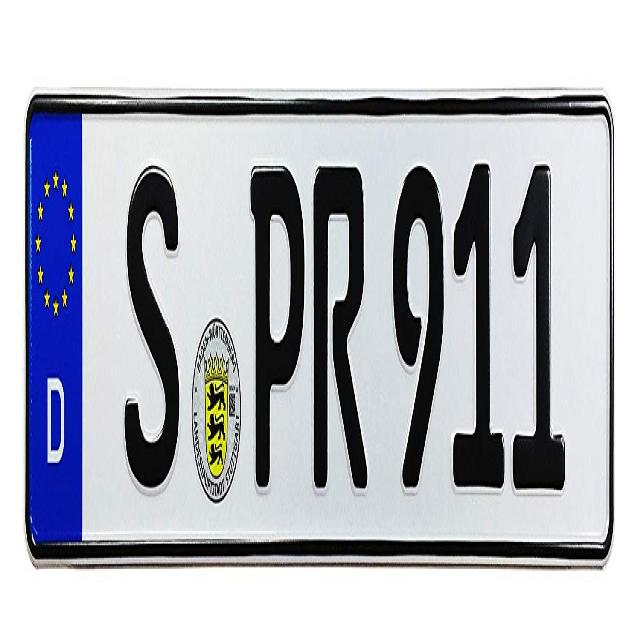Allemagne: (24, 105, 82, 554)
EU: (26, 102, 607, 548)
